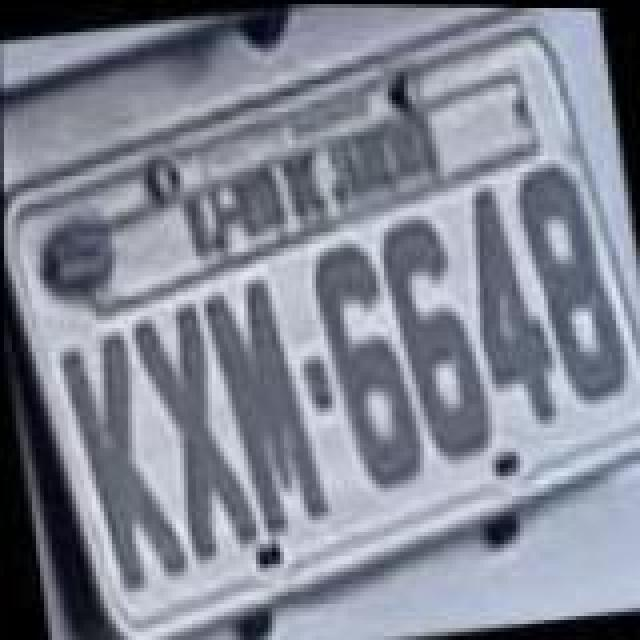4: (454, 182, 562, 430)
6: (374, 212, 498, 468), (304, 238, 424, 490)
8: (510, 158, 634, 406)
K: (52, 326, 188, 598)
M: (198, 274, 326, 546)
X: (126, 298, 258, 566)
